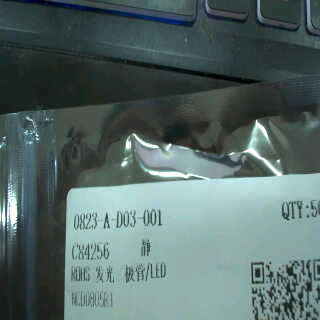LED: (96, 261, 172, 281)
